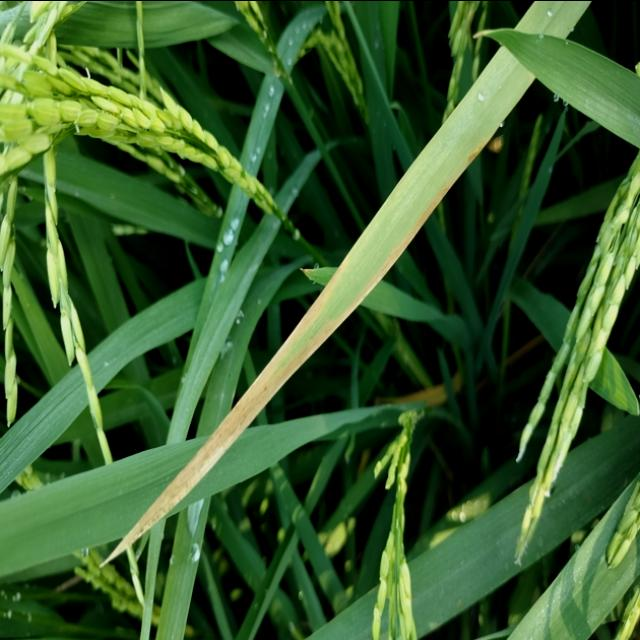Hawar Daun Bakteri: (98, 117, 448, 596)
